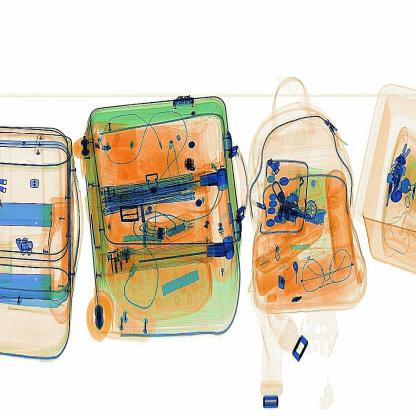scissors: (183, 154, 199, 174)
